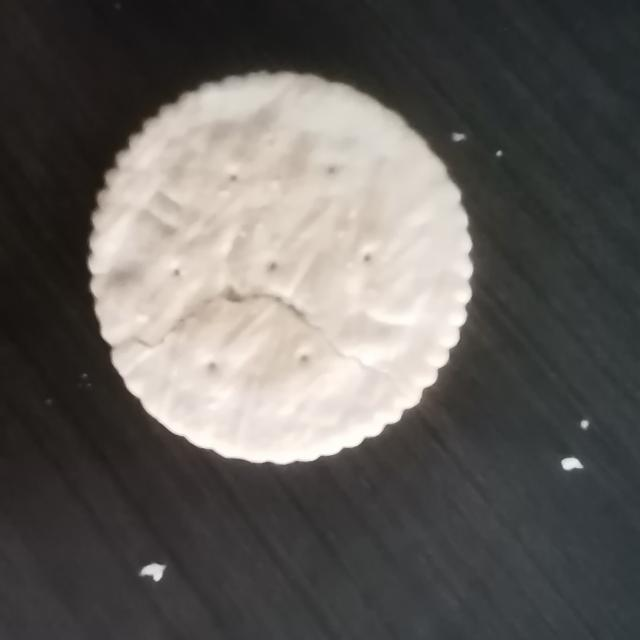Fracture: (99, 281, 431, 426)
